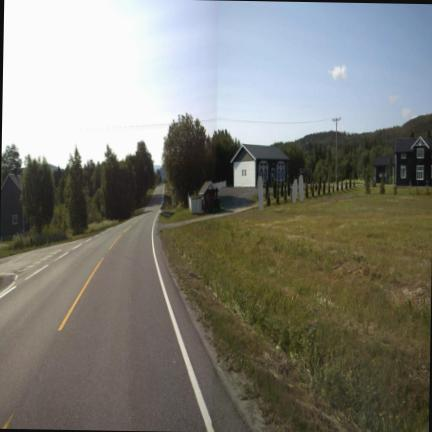Road: (0, 187, 249, 431)
